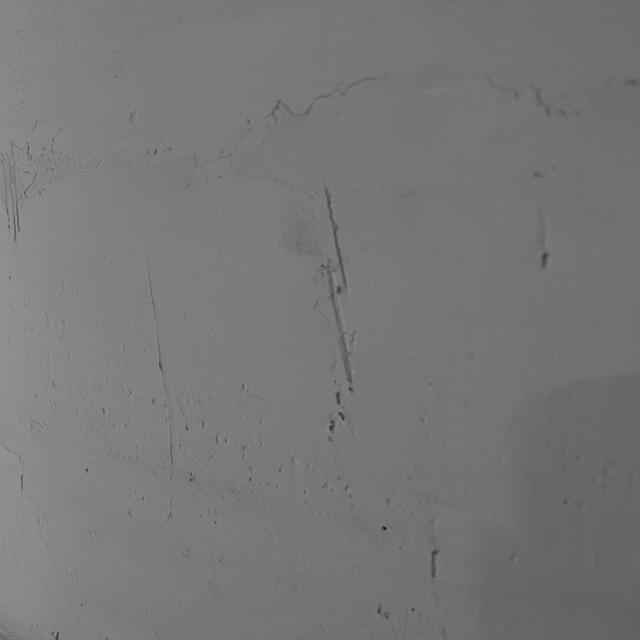rough and patchy surface: (3, 104, 448, 635)
